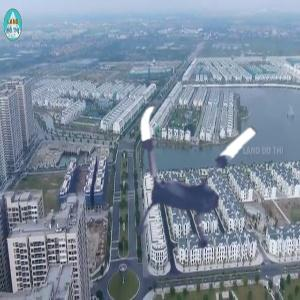drone: (104, 94, 281, 271)
